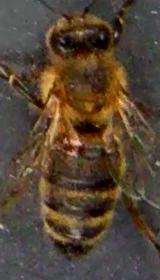varroa_mite: (58, 136, 94, 156)
